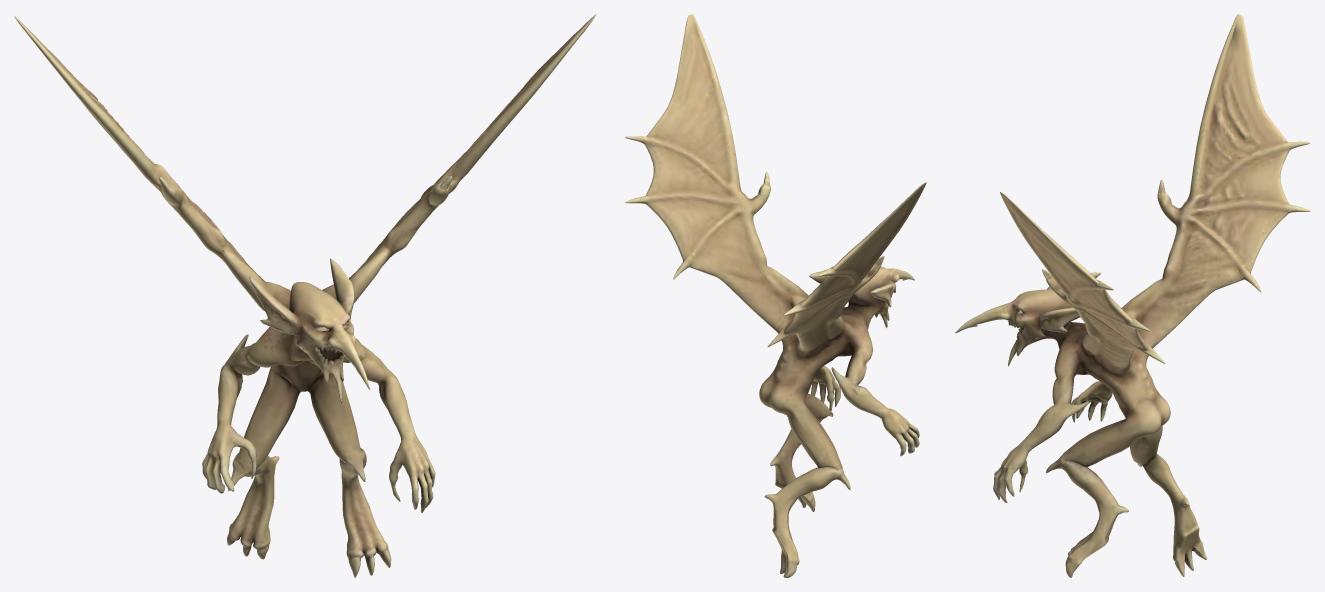
Rendered from MZ4250 - Dust Mephit_3 2025.glb.
The picture shows the model from 3 angles, left to right: view 1: azimuth 30°, elevation 25°; view 2: azimuth 150°, elevation 25°; view 3: azimuth 270°, elevation 25°; orthographic projection. The views are drawn at different scales.
Parts seen in each view (by area): view 1: Cylinder.001; view 2: Cylinder.001; view 3: Cylinder.001.
Boxes of the visible parts, x1,y1,x2,y2 form: Cylinder.001: (14,14,596,577); Cylinder.001: (625,14,926,577); Cylinder.001: (955,14,1310,577).
Bounding box in the file's own units: 101 × 121 × 81.88.
Materials: 1 (1 with a texture image).
